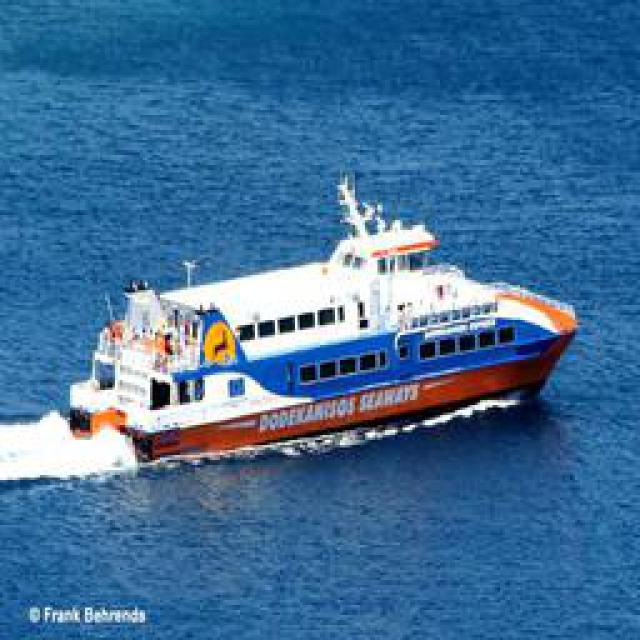Ship: (55, 174, 580, 467)
